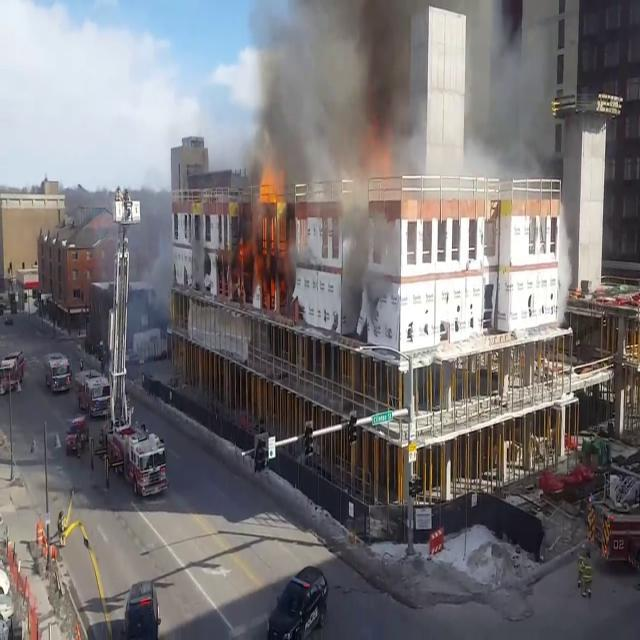Fire: (249, 162, 291, 306)
Smoke: (238, 0, 438, 306), (460, 1, 567, 229)
